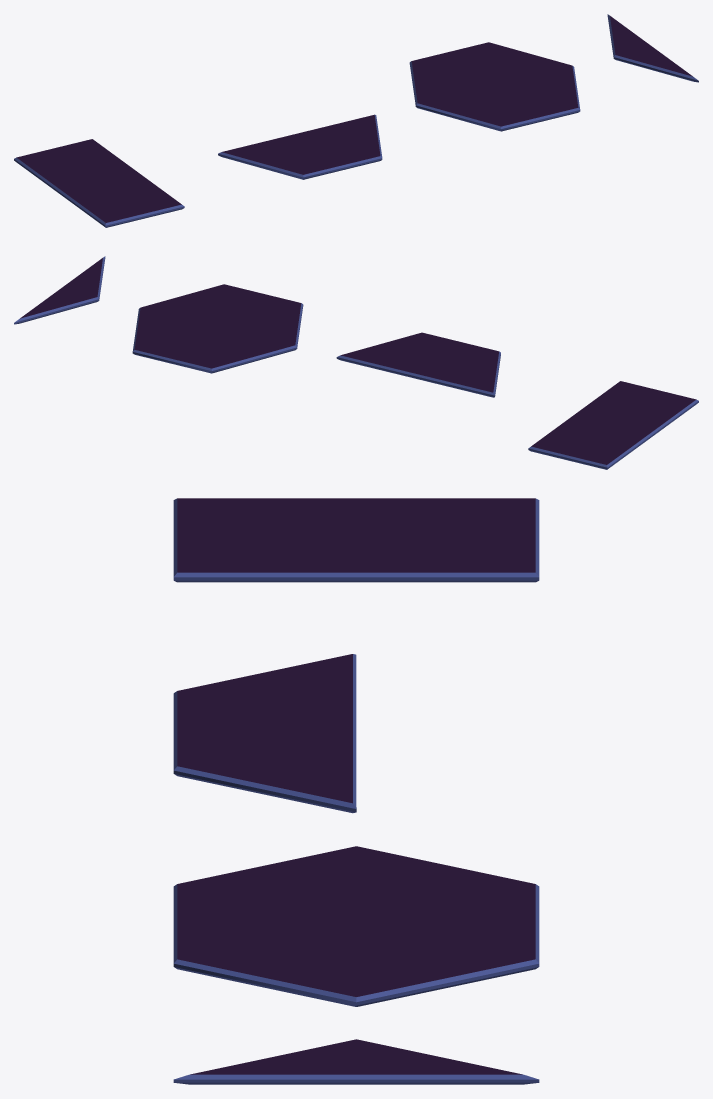
Rendered from HexRamp.FBX.
3 renders of one model, top to bottom at view 1: azimuth 30°, elevation 25°; view 2: azimuth 150°, elevation 25°; view 3: azimuth 270°, elevation 25°, orthographic. The views are drawn at different scales.
Visible parts, largest first — view 1: Cylinder001, Cylinder006, Cylinder004, Cylinder005; view 2: Cylinder001, Cylinder006, Cylinder004, Cylinder005; view 3: Cylinder001, Cylinder006, Cylinder004, Cylinder005.
Boxes of the visible parts, <box> form: Cylinder001: <box>409,42,580,131</box>; Cylinder006: <box>14,139,184,227</box>; Cylinder004: <box>218,114,382,179</box>; Cylinder005: <box>607,14,698,82</box>; Cylinder001: <box>132,284,303,373</box>; Cylinder006: <box>528,381,698,469</box>; Cylinder004: <box>336,332,500,397</box>; Cylinder005: <box>14,256,105,324</box>; Cylinder001: <box>173,846,539,1006</box>; Cylinder006: <box>173,498,539,582</box>; Cylinder004: <box>173,654,356,813</box>; Cylinder005: <box>173,1039,539,1084</box>.
Bounding box in the file's own units: 7.5 × 0.0601 × 2.
